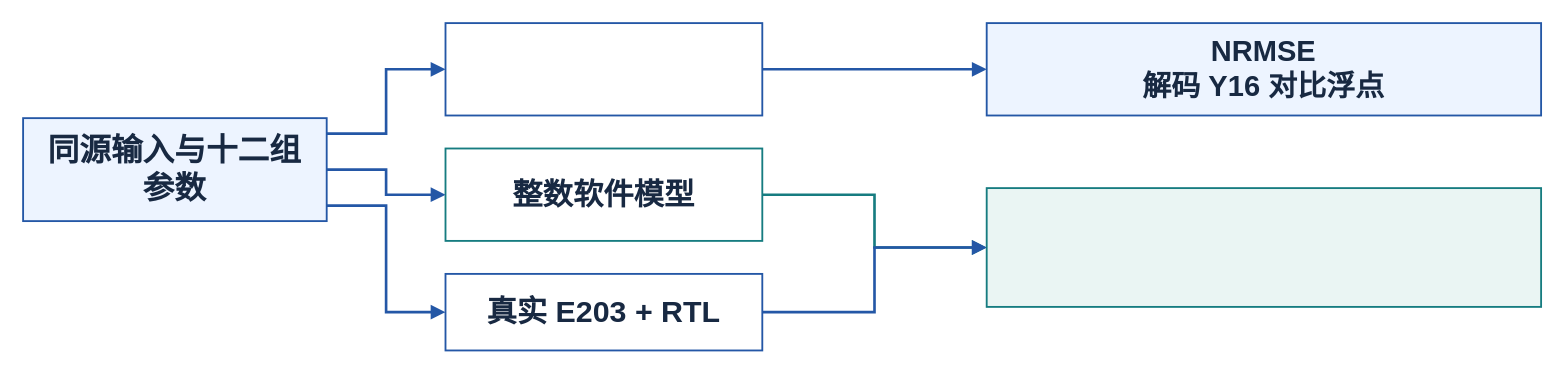
Some shapes in this 1566 by 375 pixel diagram are drawn without their labels. Each missing label, with the centre of its shape:
浮点参考模型: point 603,69
逐位一致 ACC40 与 SRAM 中 Y16: point 1263,247
